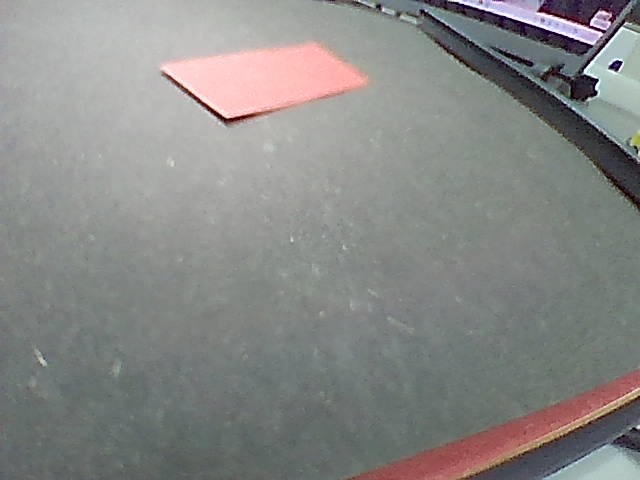card: (162, 43, 367, 119)
